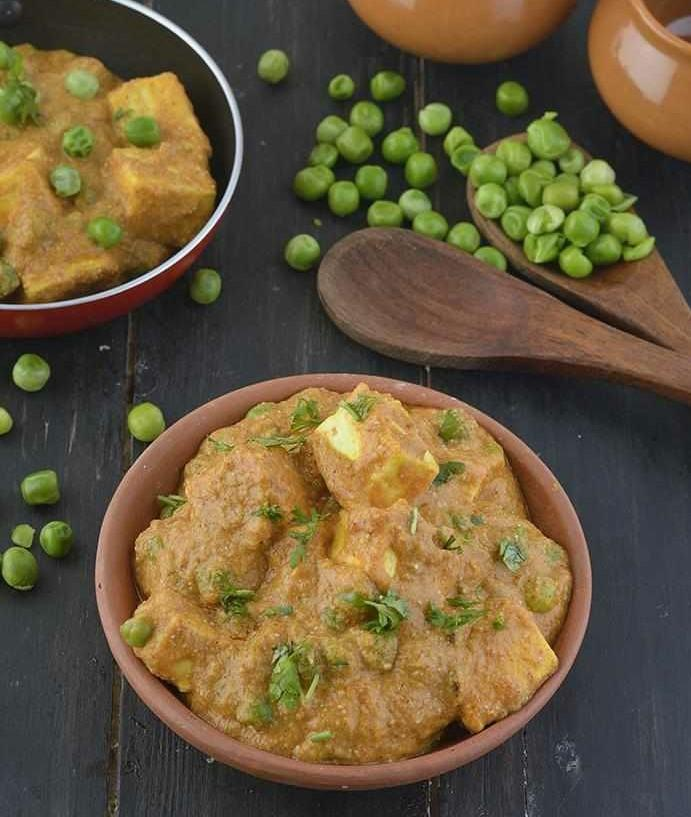ShahiPaneer: (125, 376, 572, 778), (3, 12, 228, 330)
